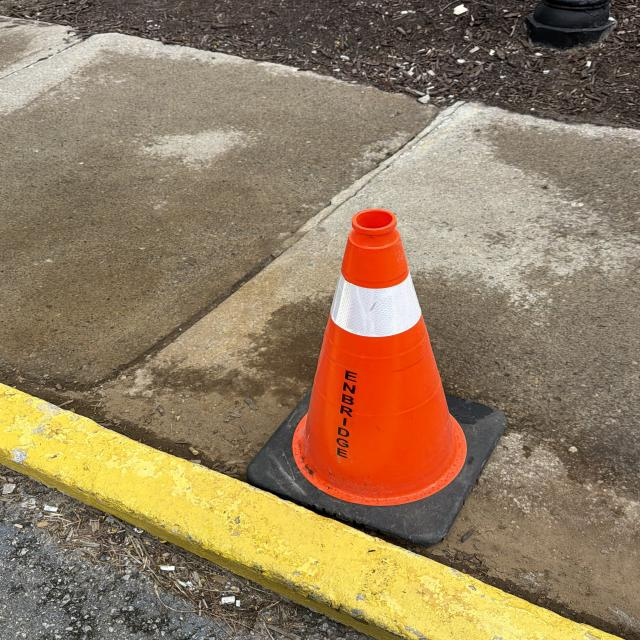Traffic Cone: (243, 209, 502, 544)
